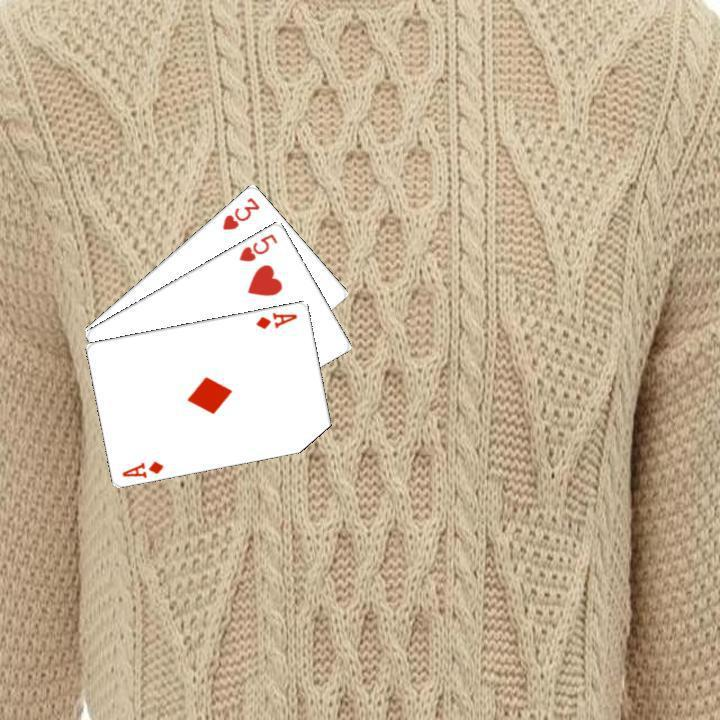3: (218, 192, 262, 232)
5: (235, 229, 280, 264)
A: (118, 456, 166, 479), (252, 307, 299, 330)
